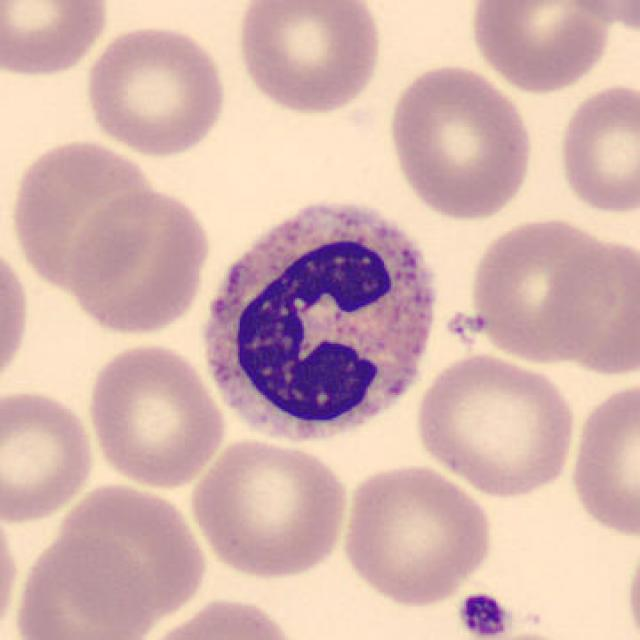Neutrophil: (190, 189, 448, 455)
Platelets: (455, 590, 512, 640)
RBC: (410, 349, 580, 499), (382, 60, 537, 222), (7, 136, 165, 294), (464, 212, 624, 366), (185, 436, 352, 580), (338, 460, 496, 608), (66, 184, 213, 338), (53, 480, 210, 624), (84, 338, 228, 492), (80, 21, 231, 159), (233, 0, 386, 118), (9, 530, 155, 640), (466, 0, 618, 95), (540, 233, 638, 377), (0, 384, 98, 528), (565, 374, 640, 541), (553, 79, 638, 217), (0, 0, 114, 81), (135, 594, 306, 640), (0, 236, 34, 397), (0, 496, 23, 638), (560, 0, 640, 35), (622, 529, 640, 640)
